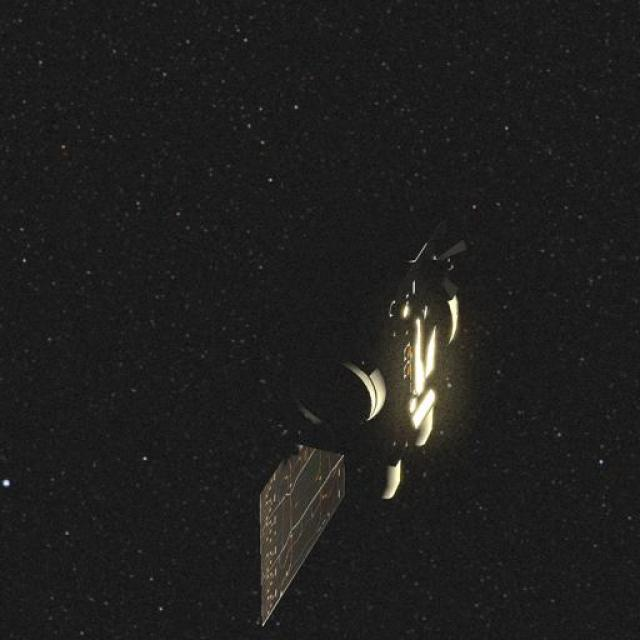proba_3_csc: (237, 209, 507, 633)
